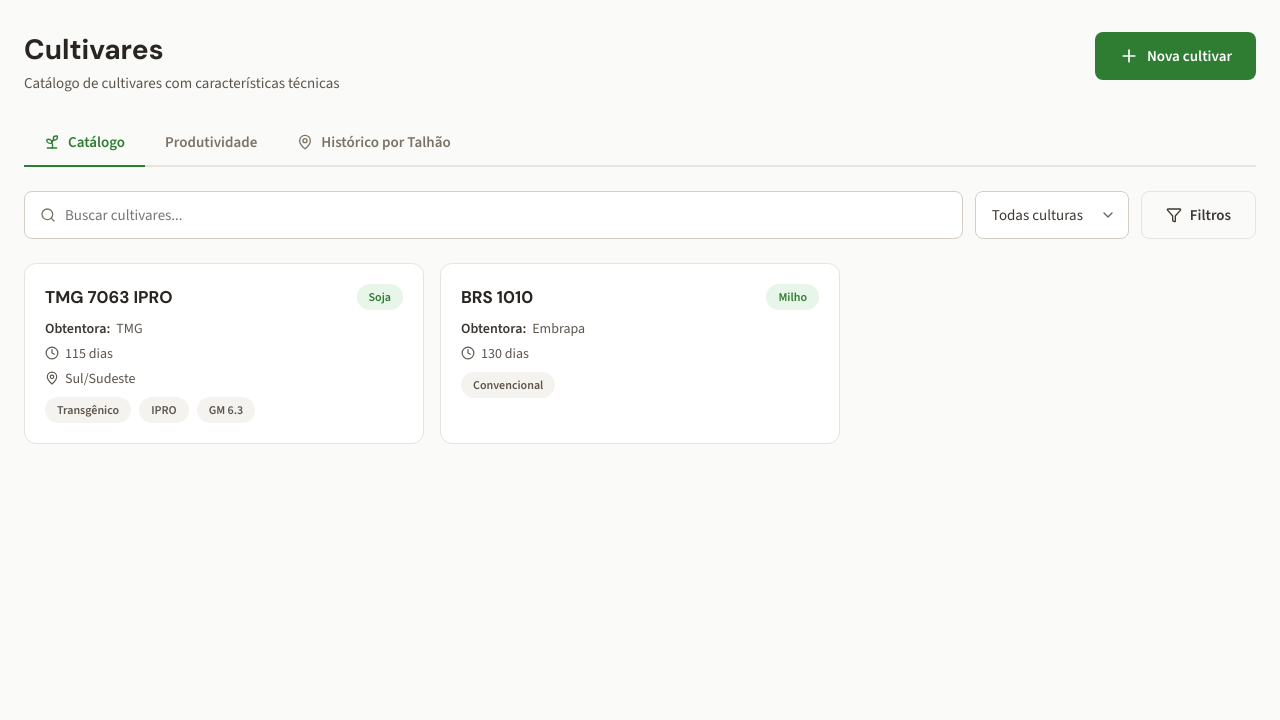
Test: CultivarsPage › should filter by technology in advanced filters (CA7)
The image size is (1280, 720).
Click the button "Filtros" at (1198, 215), box x1=1141 y1=191 x2=1256 y2=239
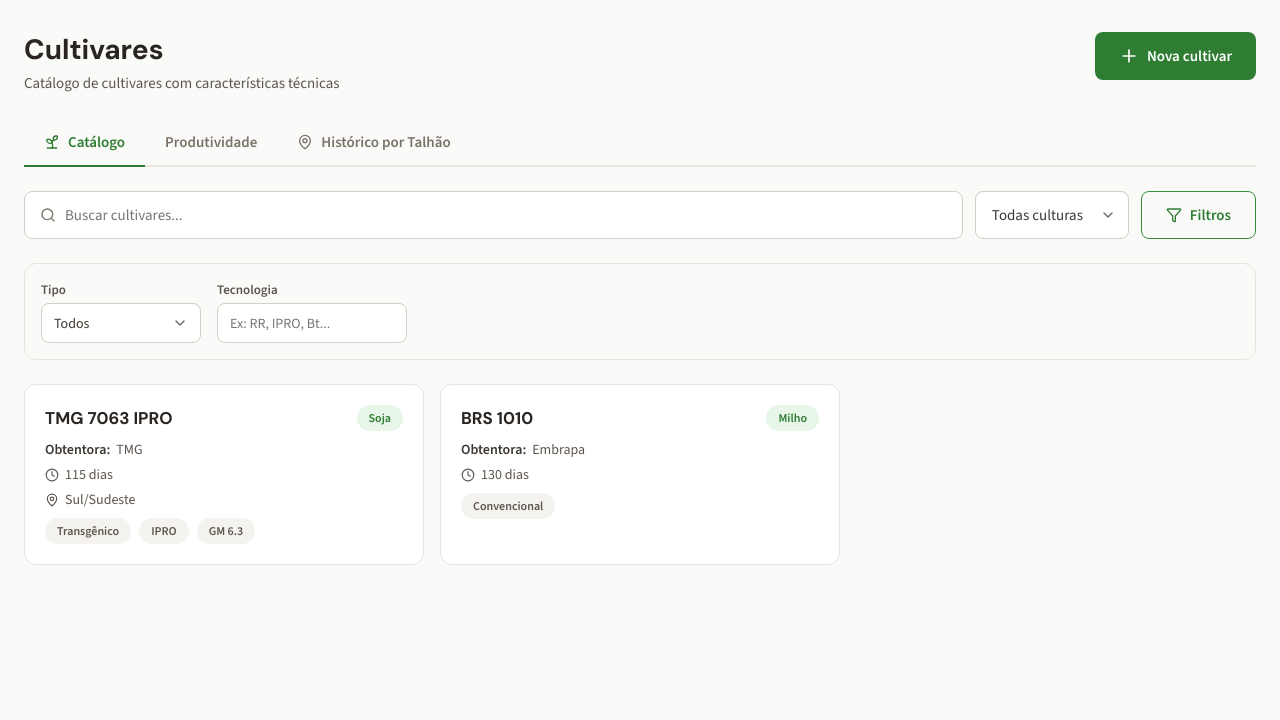
Type "IPRO" into the field labelled "Tecnologia" at (312, 323), box x1=217 y1=303 x2=407 y2=343
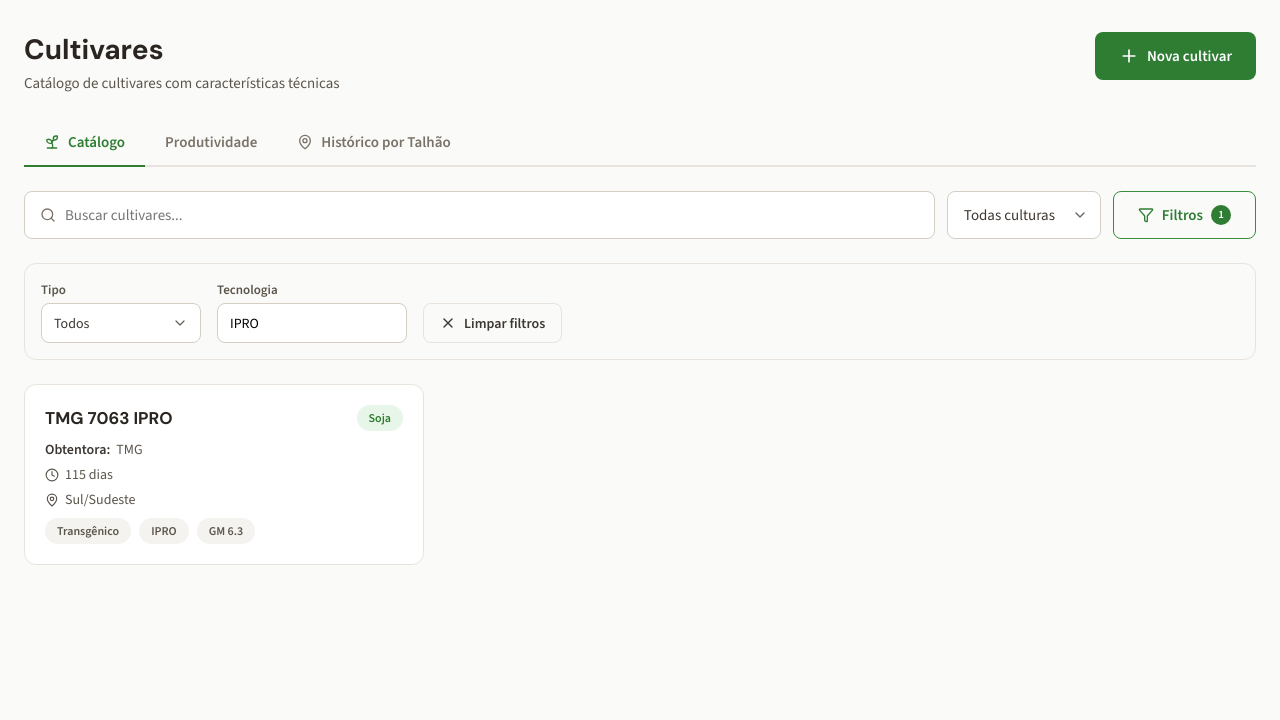
Expected: the heading "TMG 7063 IPRO" is shown, x1=45 y1=407 x2=173 y2=429
Result: the button "BRS 1010" is gone
